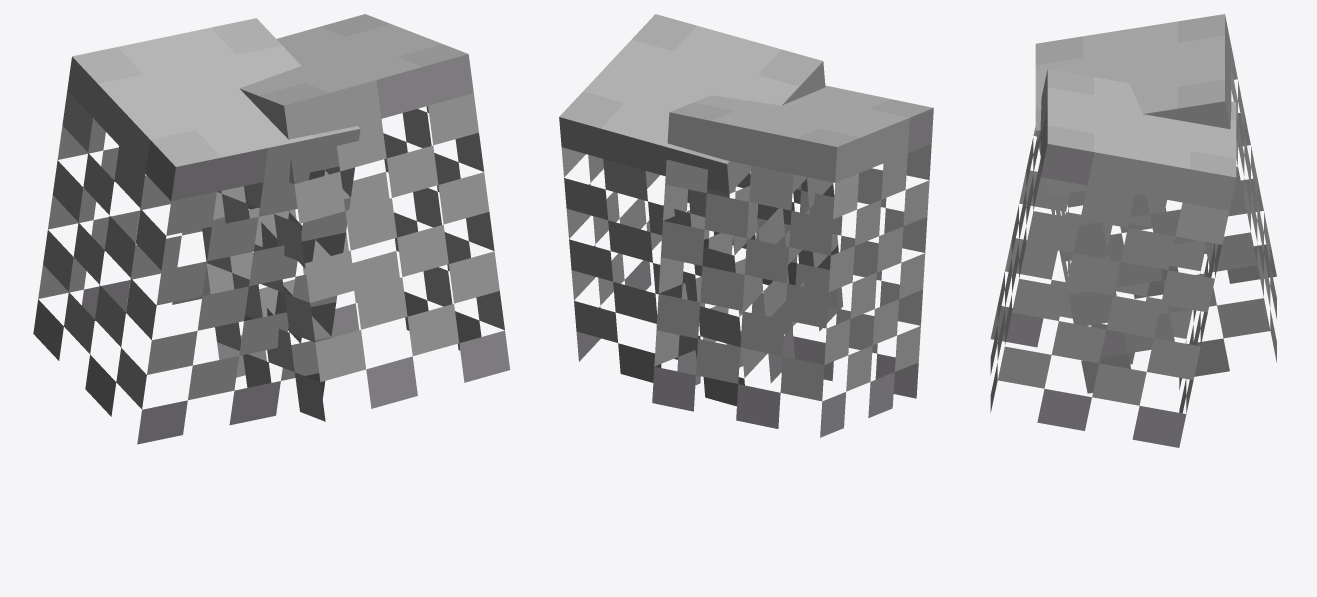
Rendered from chainmail.gltf.
3 views of the same model, side by side, from view 1: azimuth 30°, elevation 25°; view 2: azimuth 150°, elevation 25°; view 3: azimuth 270°, elevation 25° (orthographic). The views are drawn at different scales.
Parts seen in each view (by area): view 1: Left Boot, Right Boot; view 2: Left Boot, Right Boot; view 3: Right Boot, Left Boot.
Part boxes in pixels (<box>): Left Boot: <box>33,18,360,444</box>; Right Boot: <box>202,14,510,421</box>; Left Boot: <box>652,85,933,437</box>; Right Boot: <box>559,14,843,406</box>; Right Boot: <box>990,69,1236,447</box>; Left Boot: <box>1035,14,1276,393</box>.
Size of the model in its own units: 0.6704 by 0.943 by 0.6648.
Materials: 1 (1 with a texture image).
